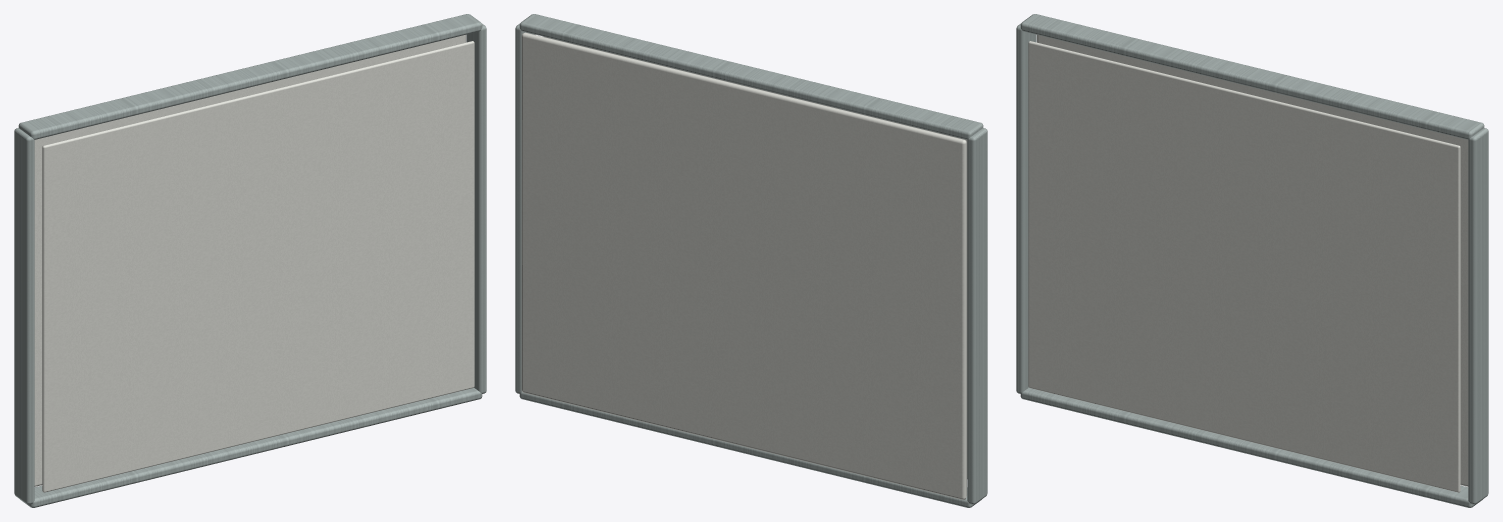
The model's file is detail-notice-board-1.glb.
3 renders of one model, left to right at view 1: azimuth 30°, elevation 25°; view 2: azimuth 150°, elevation 25°; view 3: azimuth 330°, elevation 25°, orthographic.
Parts seen in each view (by area): view 1: graphic_surface, frame_rail (×2), frame_side (×2), panel_back; view 2: panel_back, frame_rail (×2), frame_side (×2), graphic_surface; view 3: graphic_surface, frame_rail (×2), frame_side (×2), panel_back.
Part boxes in pixels (x1,y1,x2,y2): graphic_surface: (42, 41, 474, 492); frame_rail (×2): (18, 14, 482, 507); frame_side (×2): (14, 23, 486, 504); panel_back: (34, 35, 465, 486); panel_back: (521, 32, 966, 499); frame_rail (×2): (519, 14, 983, 507); frame_side (×2): (515, 23, 987, 504); graphic_surface: (543, 36, 967, 478); graphic_surface: (1028, 41, 1460, 492); frame_rail (×2): (1020, 14, 1484, 507); frame_side (×2): (1016, 23, 1488, 504); panel_back: (1037, 35, 1468, 486).
Bounding box in the file's own units: 1.84 × 1.44 × 0.1245.
Materials: 2 (2 with a texture image).
